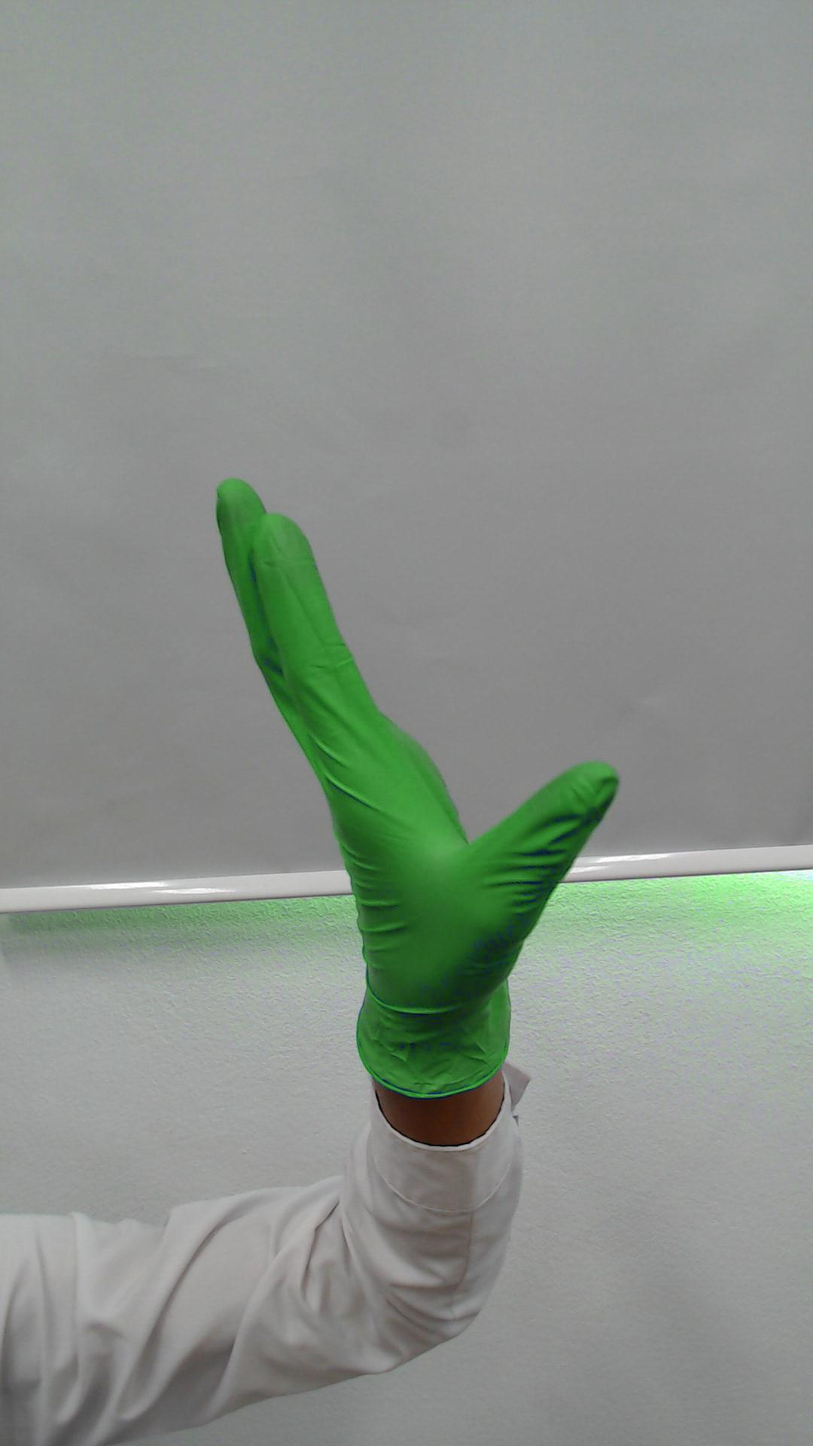gloves: (182, 430, 649, 973)
